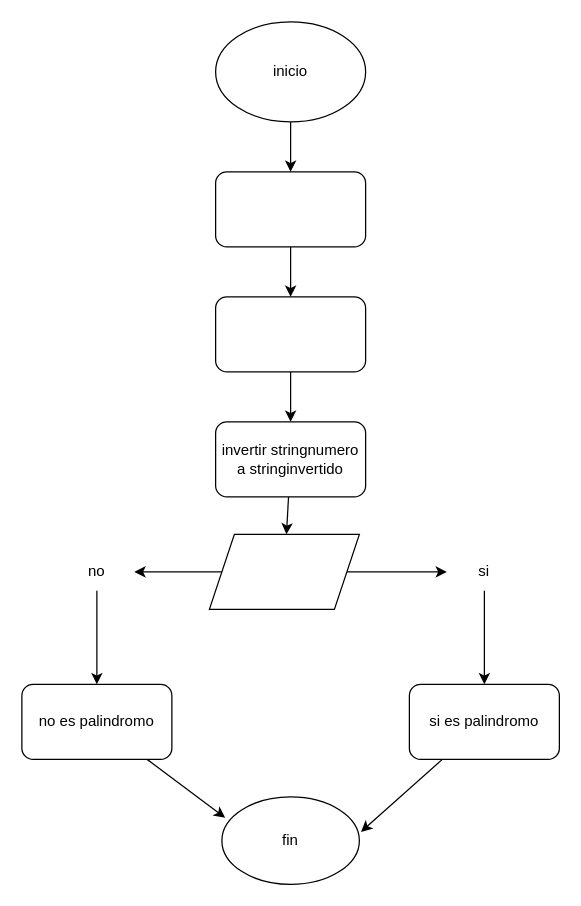
Some shapes in this 581 by 906 pixel diagram are drawn without their labels. Each missing label, with the centre of its shape:
"comparar stringnumero con stringinvertido" belongs at (283,571).
"convertir n a stringnumero" belongs at (290,334).
"leer n" belongs at (290,209).
